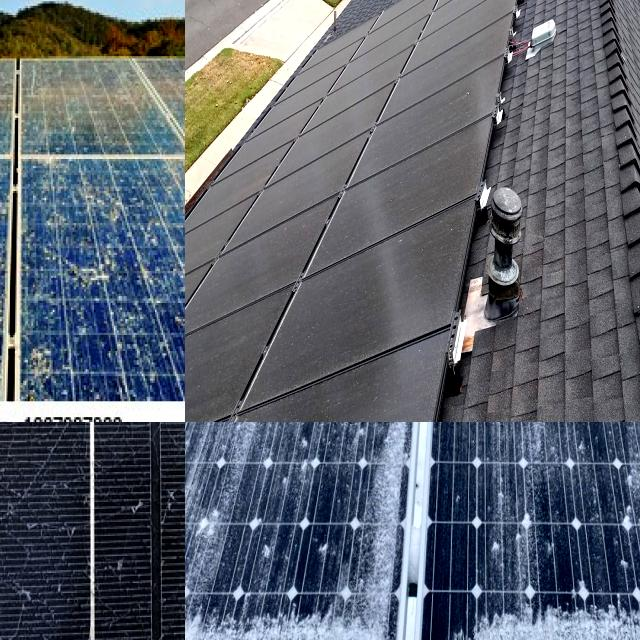dust: (310, 250, 430, 374), (382, 86, 480, 200), (185, 329, 251, 417)
panel: (490, 422, 563, 640), (512, 563, 640, 640), (360, 422, 406, 633), (597, 422, 640, 595), (312, 594, 404, 640), (200, 598, 300, 640)
